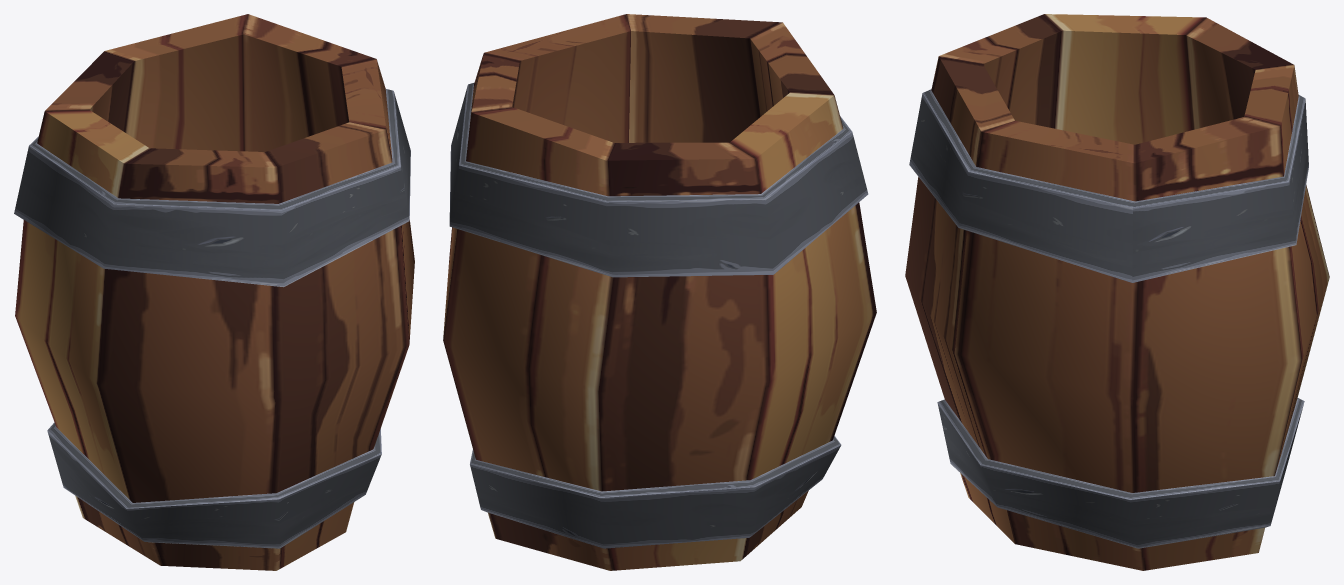
File: tonneau-2.glb
The picture shows the model from 3 angles, left to right: view 1: azimuth 30°, elevation 25°; view 2: azimuth 150°, elevation 25°; view 3: azimuth 270°, elevation 25°; orthographic projection. The views are drawn at different scales.
Visible parts, largest first — view 1: SM_PROP_barrel_02; view 2: SM_PROP_barrel_02; view 3: SM_PROP_barrel_02.
Boxes of the visible parts, <box> form: SM_PROP_barrel_02: <box>14,14,414,570</box>; SM_PROP_barrel_02: <box>443,14,876,570</box>; SM_PROP_barrel_02: <box>905,14,1329,570</box>.
Bounding box in the file's own units: 0.7705 × 0.8439 × 0.7486.
Materials: 2 (2 with a texture image).
